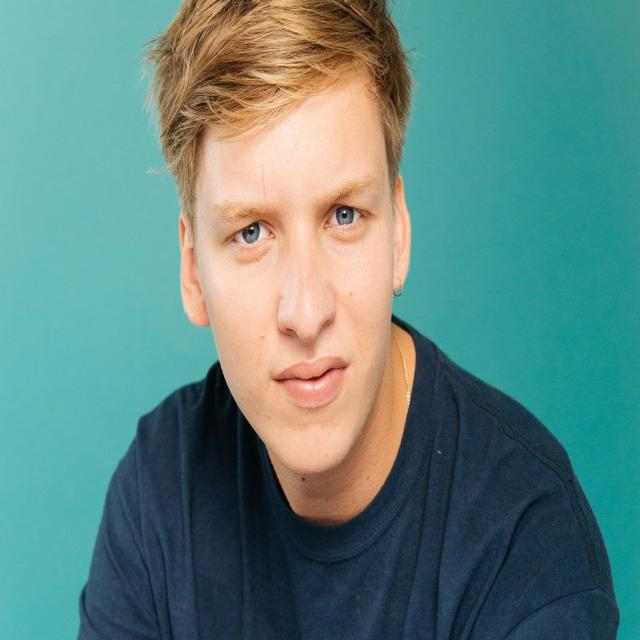mobile_phonerotation: (74, 0, 621, 638)
